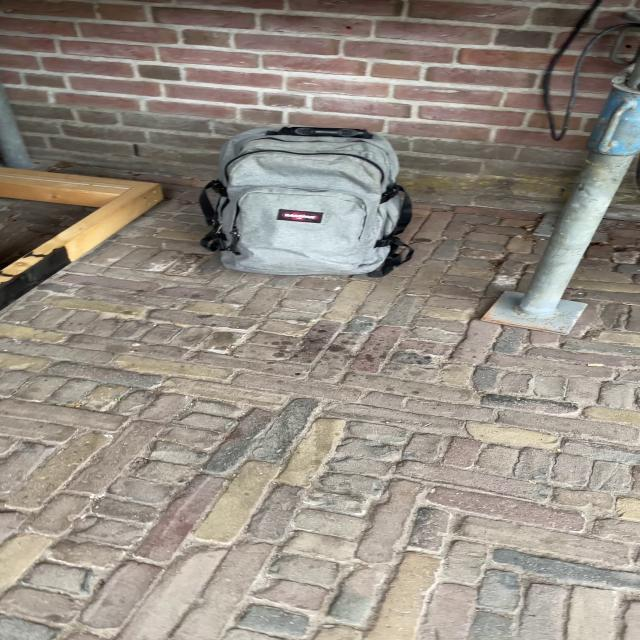backpack: (189, 117, 420, 281)
